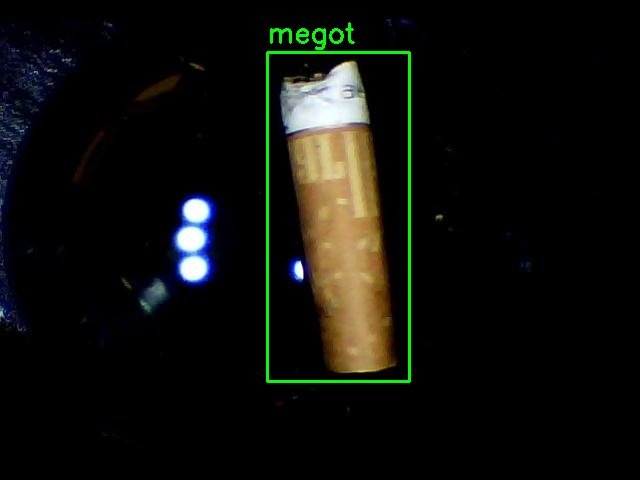megot: (267, 52, 409, 381)
